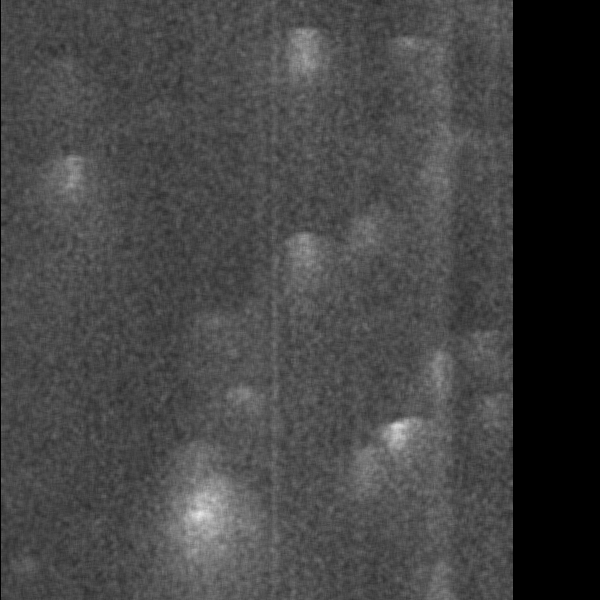spark: (168, 469, 243, 596), (375, 412, 420, 520), (279, 17, 320, 126), (286, 226, 323, 322), (219, 380, 261, 443), (54, 146, 83, 216), (394, 30, 426, 59)
